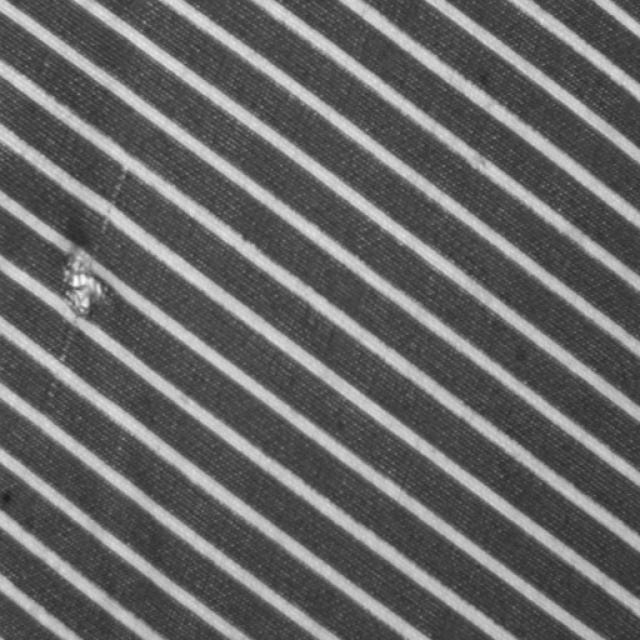Hole-Defect: (64, 250, 111, 318), (96, 166, 130, 248), (39, 372, 71, 426), (58, 325, 79, 365)
